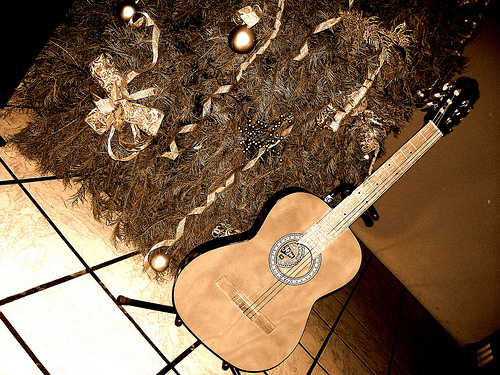guitar: (170, 74, 481, 375)
